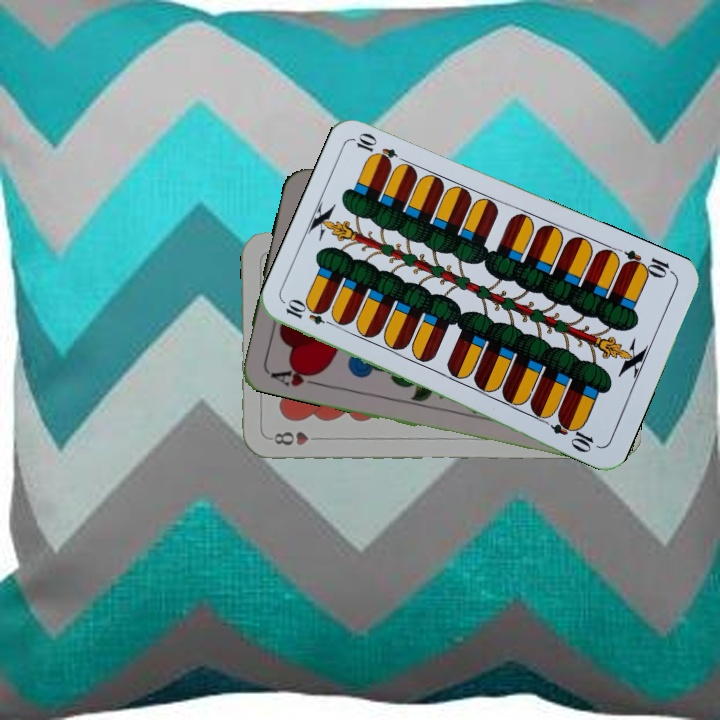E10: (618, 246, 677, 281), (281, 297, 339, 330)
H8: (270, 428, 325, 448)
HA: (264, 362, 324, 389)
